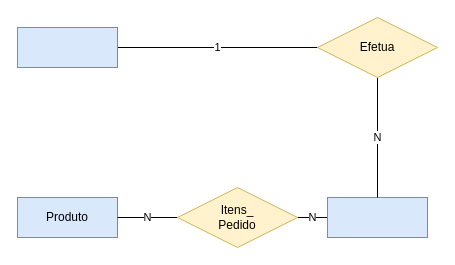
Some shapes in this 455 by 265 pixel diagram are drawn without their labels. Each missing label, with the centre of its shape:
"Cliente" goes at (67,47).
"Pedido" goes at (377,217).
